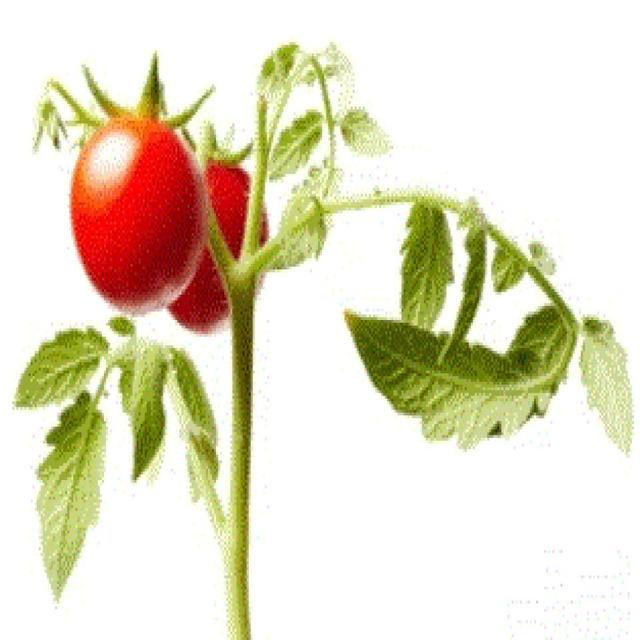Healthy Fruit: (73, 141, 145, 166)
